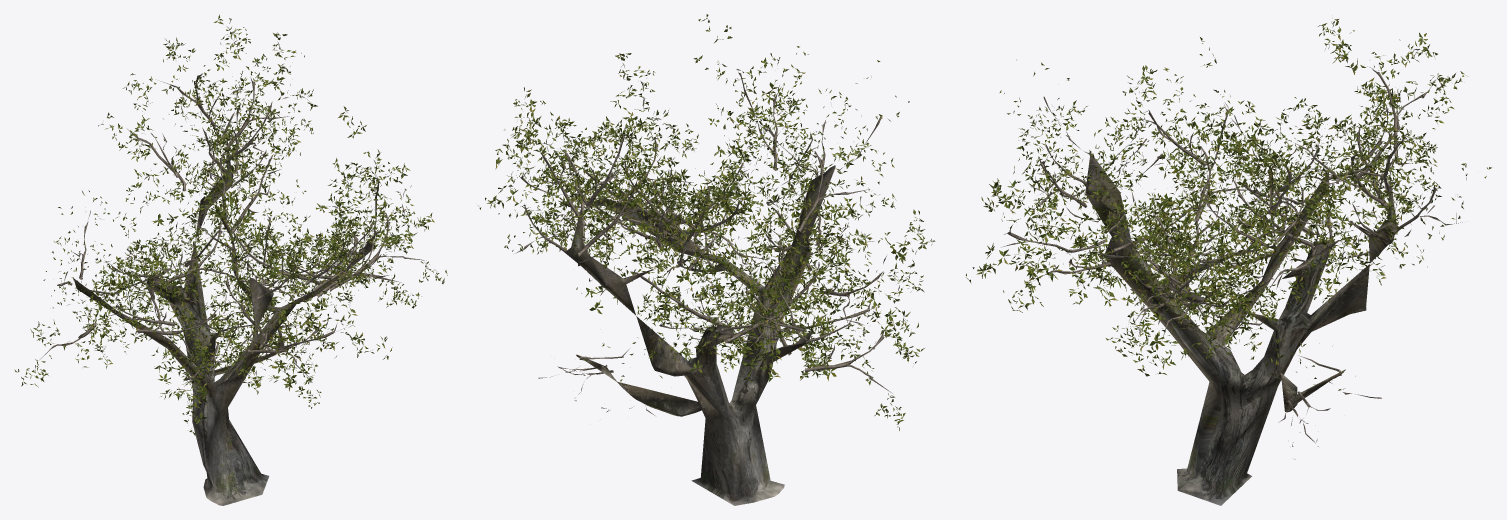
Rendered from island_tree_opt.glb.
3 views of the same model, side by side, from view 1: azimuth 30°, elevation 25°; view 2: azimuth 150°, elevation 25°; view 3: azimuth 270°, elevation 25° (orthographic). The views are drawn at different scales.
Visible parts, largest first — view 1: island_trees_01_blockout_cleaned; view 2: island_trees_01_blockout_cleaned; view 3: island_trees_01_blockout_cleaned.
Boxes of the visible parts, <box> form: island_trees_01_blockout_cleaned: <box>14,14,447,505</box>; island_trees_01_blockout_cleaned: <box>478,14,935,505</box>; island_trees_01_blockout_cleaned: <box>966,19,1491,505</box>.
Size of the model in its own units: 4.7 by 4.98 by 4.79.
3 materials, 3 textured.
